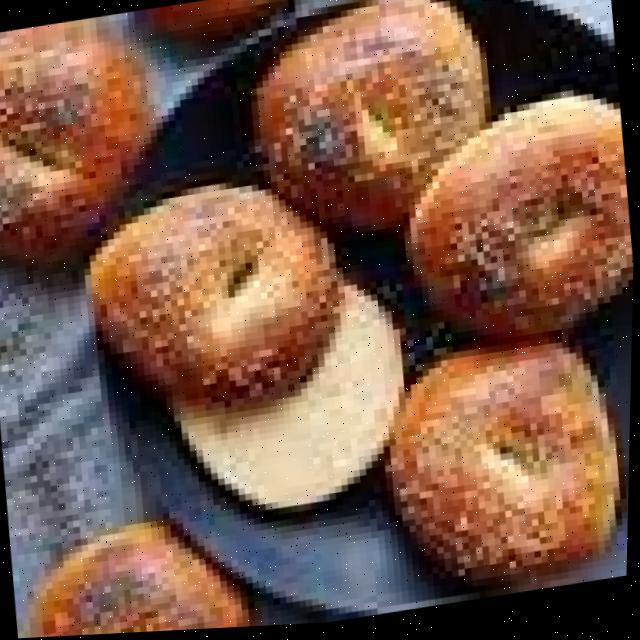Bagel: (254, 0, 489, 235), (91, 189, 340, 408), (410, 101, 635, 342), (388, 348, 619, 582), (174, 287, 405, 512), (0, 20, 155, 262), (35, 523, 253, 638)
